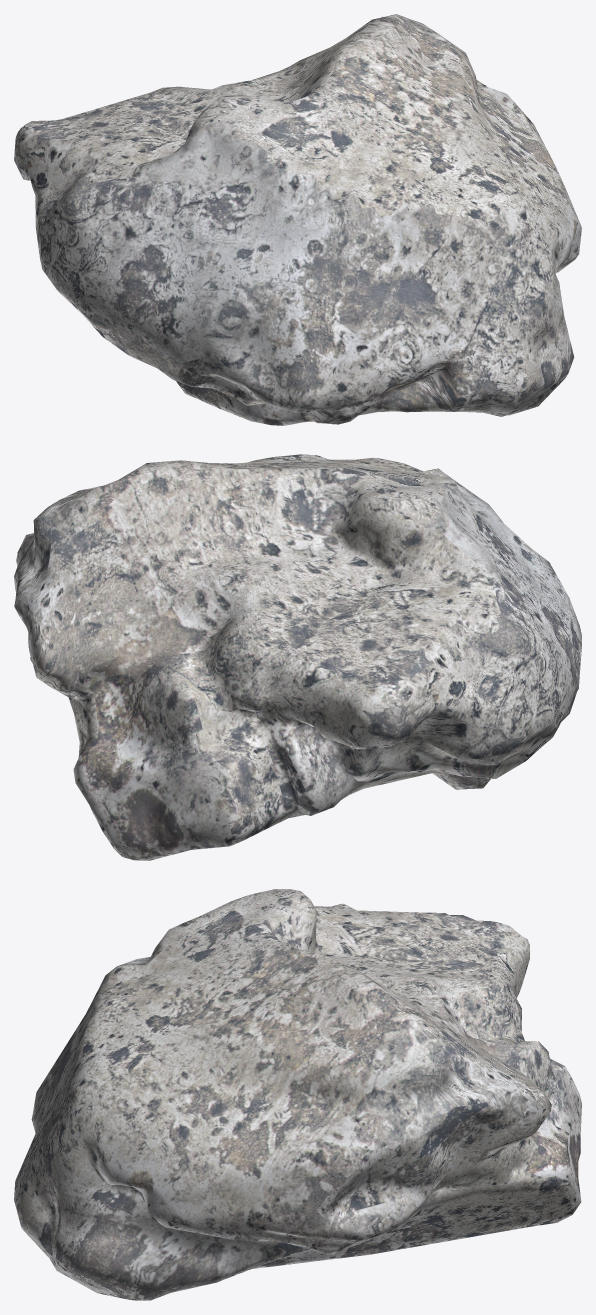
File: SM_Large_Rock_C.fbx
3 views of the same model, one above another, from view 1: azimuth 30°, elevation 25°; view 2: azimuth 150°, elevation 25°; view 3: azimuth 270°, elevation 25° (orthographic). The views are drawn at different scales.
Visible parts, largest first — view 1: SM_Large_Rock_C_LOD0; view 2: SM_Large_Rock_C_LOD0; view 3: SM_Large_Rock_C_LOD0.
Part boxes in pixels (x1,y1,x2,y2): SM_Large_Rock_C_LOD0: (14,14,581,425); SM_Large_Rock_C_LOD0: (14,454,581,860); SM_Large_Rock_C_LOD0: (14,889,581,1300).
Bounding box in the file's own units: 150 × 151 × 89.73.
Materials: 1 (1 with a texture image).
